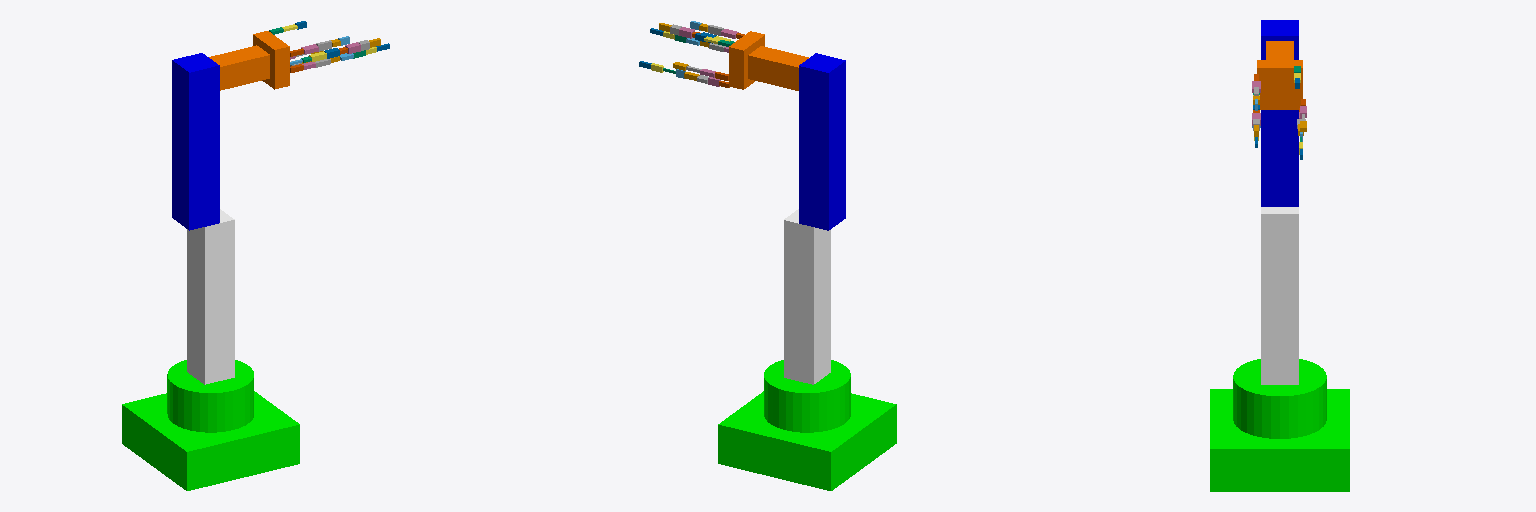
--- Render facts (derived) ---
The picture shows the robot from 3 angles, left to right: view 1: azimuth 30°, elevation 25°; view 2: azimuth 150°, elevation 25°; view 3: azimuth 270°, elevation 25°; orthographic projection.
Model robot with 41 links and 40 joints (37 revolute, 1 continuous, 2 fixed), rooted at base_link, posed all joints at 0.
Visible links, largest first — view 1: base_link, arm_link, support_link, wrist_link, palm_link; view 2: base_link, arm_link, support_link, wrist_link, palm_link; view 3: base_link, support_link, arm_link, palm_link, wrist_link.
Boxes of the visible links, x1,y1,x2,y2 form: base_link: (122,360,299,490); arm_link: (172,53,219,230); support_link: (187,209,234,384); wrist_link: (209,45,269,90); palm_link: (253,31,289,89); base_link: (718,360,896,490); arm_link: (799,53,845,230); support_link: (784,209,830,384); wrist_link: (748,46,808,90); palm_link: (729,31,764,89); base_link: (1210,359,1349,491); support_link: (1261,207,1298,384); arm_link: (1261,20,1298,206); palm_link: (1257,60,1302,109); wrist_link: (1266,41,1293,59).
Bounding box of the posed robot: 1.49 × 0.75 × 2.54 m (x, y, z).
Geometry: primitives only (box / cylinder / sphere), no mesh files.

robot.urdf — robot:
<?xml version='1.0' encoding='utf-8'?>
<robot name="robot">
  <link name="base_link">
    <visual>
      <origin xyz="0 0 0.125" rpy="0 0 0" />
      <geometry>
        <box size="0.75 0.75 0.25" />
      </geometry>
      <material name="green" />
    </visual>
    <visual>
      <origin xyz="0 0 0.375" rpy="0 0 0" />
      <geometry>
        <cylinder length="0.25" radius="0.25" />
      </geometry>
      <material name="green">
        <color rgba="0 1 0 1" />
      </material>
    </visual>
    <collision>
      <geometry>
        <box size="0.75 0.75 0.5" />
      </geometry>
    </collision>
    <inertial>
      <mass value="0.5" />
      <inertia ixx="0.034" ixy="0.0" ixz="0.0" iyy="0.034" iyz="0.0" izz="0.034" />
    </inertial>
  </link>
  <link name="support_link">
    <visual>
      <origin xyz="0 0 0.5" rpy="0 0 0" />
      <geometry>
        <box size="0.2 0.2 1" />
      </geometry>
      <material name="white">
        <color rgba="1 1 1 1" />
      </material>
    </visual>
    <collision>
      <geometry>
        <box size="0.2 0.2 1" />
      </geometry>
    </collision>
    <inertial>
      <mass value="0.1" />
      <inertia ixx="0.01" ixy="0.0" ixz="0.0" iyy="0.01" iyz="0.0" izz="0.01" />
    </inertial>
  </link>
  <joint name="support_joint" type="continuous">
    <origin xyz="0 0 0.5" rpy="0 0 0" />
    <parent link="base_link" />
    <child link="support_link" />
    <axis xyz="0 0 1" />
  </joint>
  <link name="arm_link">
    <visual>
      <origin xyz="0 0 0.5" rpy="0 0 0" />
      <geometry>
        <box size="0.2 0.2 1" />
      </geometry>
      <material name="blue">
        <color rgba="0 0 1 1" />
      </material>
    </visual>
    <collision>
      <geometry>
        <box size="0.2 0.2 1" />
      </geometry>
    </collision>
    <inertial>
      <mass value="0.1" />
      <inertia ixx="0.01" ixy="0.0" ixz="0.0" iyy="0.01" iyz="0.0" izz="0.01" />
    </inertial>
  </link>
  <joint name="arm_joint" type="revolute">
    <origin xyz="-0.1 0 1" rpy="0 0 0" />
    <parent link="support_link" />
    <child link="arm_link" />
    <axis xyz="0 1 0" />
    <limit lower="-3.14" upper="3.14" effort="1.0" velocity="1.0" />
  </joint>
  <link name="wrist_link">
    <visual>
      <origin xyz="0 0 0.25" rpy="0 0 0" />
      <geometry>
        <box size="0.15 0.15 0.5" />
      </geometry>
      <material name="orange">
        <color rgba="1 0.5 0 1" />
      </material>
    </visual>
    <collision>
      <geometry>
        <box size="0.15 0.15 0.5" />
      </geometry>
    </collision>
    <inertial>
      <mass value="0.1" />
      <inertia ixx="0.01" ixy="0.0" ixz="0.0" iyy="0.01" iyz="0.0" izz="0.01" />
    </inertial>
  </link>
  <joint name="wrist_joint" type="fixed">
    <origin xyz="0 0 0.9" rpy="0 1.571 0" />
    <parent link="arm_link" />
    <child link="wrist_link" />
  </joint>
  <link name="palm_link">
    <visual>
      <origin xyz="0 0 0.05" rpy="0 0 0" />
      <geometry>
        <box size="0.25 0.25 0.1" />
      </geometry>
      <material name="orange" />
    </visual>
    <collision>
      <geometry>
        <box size="0.25 0.25 0.1" />
      </geometry>
    </collision>
    <inertial>
      <mass value="0.1" />
      <inertia ixx="0.01" ixy="0.0" ixz="0.0" iyy="0.01" iyz="0.0" izz="0.01" />
    </inertial>
  </link>
  <joint name="palm_joint" type="fixed">
    <origin xyz="0 0 0.45" rpy="0 0 0" />
    <parent link="wrist_link" />
    <child link="palm_link" />
  </joint>
  <link name="finger_link_0_0">
    <visual>
      <origin xyz="0 0 0.0325" rpy="0 0 0" />
      <geometry>
        <box size="0.027 0.02 0.065" />
      </geometry>
    </visual>
    <collision>
      <geometry>
        <box size="0.027 0.02 0.065" />
      </geometry>
    </collision>
    <inertial>
      <mass value="0.011" />
      <inertia ixx="0.001" iyy="0.001" izz="0.001" ixy="0" ixz="0" iyz="0" />
    </inertial>
  </link>
  <joint name="finger_joint_palm_link_to_finger_link_0_0" type="revolute">
    <origin xyz="0.125 0.113 0.1" rpy="0 0 0" />
    <parent link="palm_link" />
    <child link="finger_link_0_0" />
    <axis xyz="0.0 1.0 0.0" />
    <limit lower="-3.142" upper="3.142" effort="10" velocity="10" />
  </joint>
  <link name="finger_link_0_1">
    <visual>
      <origin xyz="0 0 0.0355" rpy="0 0 0" />
      <geometry>
        <box size="0.042 0.021 0.071" />
      </geometry>
    </visual>
    <collision>
      <geometry>
        <box size="0.042 0.021 0.071" />
      </geometry>
    </collision>
    <inertial>
      <mass value="0.019" />
      <inertia ixx="0.001" iyy="0.001" izz="0.001" ixy="0" ixz="0" iyz="0" />
    </inertial>
  </link>
  <joint name="finger_joint_finger_link_0_0_to_finger_link_0_1" type="revolute">
    <origin xyz="0.0 0.0 0.065" rpy="0 0 0" />
    <parent link="finger_link_0_0" />
    <child link="finger_link_0_1" />
    <axis xyz="0.0 1.0 0.0" />
    <limit lower="-3.142" upper="3.142" effort="10" velocity="10" />
  </joint>
  <link name="finger_link_0_2">
    <visual>
      <origin xyz="0 0 0.035" rpy="0 0 0" />
      <geometry>
        <box size="0.023 0.049 0.07" />
      </geometry>
    </visual>
    <collision>
      <geometry>
        <box size="0.023 0.049 0.07" />
      </geometry>
    </collision>
    <inertial>
      <mass value="0.024" />
      <inertia ixx="0.001" iyy="0.001" izz="0.001" ixy="0" ixz="0" iyz="0" />
    </inertial>
  </link>
  <joint name="finger_joint_finger_link_0_1_to_finger_link_0_2" type="revolute">
    <origin xyz="0.0 0.0 0.071" rpy="0 0 0" />
    <parent link="finger_link_0_1" />
    <child link="finger_link_0_2" />
    <axis xyz="0.0 1.0 0.0" />
    <limit lower="-3.142" upper="3.142" effort="10" velocity="10" />
  </joint>
  <link name="finger_link_0_3">
    <visual>
      <origin xyz="0 0 0.0435" rpy="0 0 0" />
      <geometry>
        <box size="0.031 0.03 0.087" />
      </geometry>
    </visual>
    <collision>
      <geometry>
        <box size="0.031 0.03 0.087" />
      </geometry>
    </collision>
    <inertial>
      <mass value="0.024" />
      <inertia ixx="0.001" iyy="0.001" izz="0.001" ixy="0" ixz="0" iyz="0" />
    </inertial>
  </link>
  <joint name="finger_joint_finger_link_0_2_to_finger_link_0_3" type="revolute">
    <origin xyz="0.0 0.0 0.07" rpy="0 0 0" />
    <parent link="finger_link_0_2" />
    <child link="finger_link_0_3" />
    <axis xyz="0.0 1.0 0.0" />
    <limit lower="-3.142" upper="3.142" effort="10" velocity="10" />
  </joint>
  <link name="finger_link_0_4">
    <visual>
      <origin xyz="0 0 0.0295" rpy="0 0 0" />
      <geometry>
        <box size="0.048 0.014 0.059" />
      </geometry>
    </visual>
    <collision>
      <geometry>
        <box size="0.048 0.014 0.059" />
      </geometry>
    </collision>
    <inertial>
      <mass value="0.012" />
      <inertia ixx="0.001" iyy="0.001" izz="0.001" ixy="0" ixz="0" iyz="0" />
    </inertial>
  </link>
  <joint name="finger_joint_finger_link_0_3_to_finger_link_0_4" type="revolute">
    <origin xyz="0.0 0.0 0.087" rpy="0 0 0" />
    <parent link="finger_link_0_3" />
    <child link="finger_link_0_4" />
    <axis xyz="0.0 1.0 0.0" />
    <limit lower="-3.142" upper="3.142" effort="10" velocity="10" />
  </joint>
  <link name="finger_link_0_5">
    <visual>
      <origin xyz="0 0 0.044" rpy="0 0 0" />
      <geometry>
        <box size="0.015 0.01 0.088" />
      </geometry>
    </visual>
    <collision>
      <geometry>
        <box size="0.015 0.01 0.088" />
      </geometry>
    </collision>
    <inertial>
      <mass value="0.004" />
      <inertia ixx="0.001" iyy="0.001" izz="0.001" ixy="0" ixz="0" iyz="0" />
    </inertial>
  </link>
  <joint name="finger_joint_finger_link_0_4_to_finger_link_0_5" type="revolute">
    <origin xyz="0.0 0.0 0.059" rpy="0 0 0" />
    <parent link="finger_link_0_4" />
    <child link="finger_link_0_5" />
    <axis xyz="0.0 1.0 0.0" />
    <limit lower="-3.142" upper="3.142" effort="10" velocity="10" />
  </joint>
  <link name="finger_link_0_6">
    <visual>
      <origin xyz="0 0 0.039" rpy="0 0 0" />
      <geometry>
        <box size="0.036 0.023 0.078" />
      </geometry>
    </visual>
    <collision>
      <geometry>
        <box size="0.036 0.023 0.078" />
      </geometry>
    </collision>
    <inertial>
      <mass value="0.019" />
      <inertia ixx="0.001" iyy="0.001" izz="0.001" ixy="0" ixz="0" iyz="0" />
    </inertial>
  </link>
  <joint name="finger_joint_finger_link_0_5_to_finger_link_0_6" type="revolute">
    <origin xyz="0.0 0.0 0.088" rpy="0 0 0" />
    <parent link="finger_link_0_5" />
    <child link="finger_link_0_6" />
    <axis xyz="0.0 1.0 0.0" />
    <limit lower="-3.142" upper="3.142" effort="10" velocity="10" />
  </joint>
  <link name="finger_link_0_7">
    <visual>
      <origin xyz="0 0 0.038" rpy="0 0 0" />
      <geometry>
        <box size="0.031 0.016 0.076" />
      </geometry>
    </visual>
    <collision>
      <geometry>
        <box size="0.031 0.016 0.076" />
      </geometry>
    </collision>
    <inertial>
      <mass value="0.011" />
      <inertia ixx="0.001" iyy="0.001" izz="0.001" ixy="0" ixz="0" iyz="0" />
    </inertial>
  </link>
  <joint name="finger_joint_finger_link_0_6_to_finger_link_0_7" type="revolute">
    <origin xyz="0.0 0.0 0.078" rpy="0 0 0" />
    <parent link="finger_link_0_6" />
    <child link="finger_link_0_7" />
    <axis xyz="0.0 1.0 0.0" />
    <limit lower="-3.142" upper="3.142" effort="10" velocity="10" />
  </joint>
  <link name="finger_link_1_0">
    <visual>
      <origin xyz="0 0 0.045" rpy="0 0 0" />
      <geometry>
        <box size="0.026 0.022 0.09" />
      </geometry>
    </visual>
    <collision>
      <geometry>
        <box size="0.026 0.022 0.09" />
      </geometry>
    </collision>
    <inertial>
      <mass value="0.015" />
      <inertia ixx="0.001" iyy="0.001" izz="0.001" ixy="0" ixz="0" iyz="0" />
    </inertial>
  </link>
  <joint name="finger_joint_palm_link_to_finger_link_1_0" type="revolute">
    <origin xyz="-0.075 -0.125 0.1" rpy="0 0 0" />
    <parent link="palm_link" />
    <child link="finger_link_1_0" />
    <axis xyz="1.0 0.0 0.0" />
    <limit lower="-3.142" upper="3.142" effort="10" velocity="10" />
  </joint>
  <link name="finger_link_1_1">
    <visual>
      <origin xyz="0 0 0.046" rpy="0 0 0" />
      <geometry>
        <box size="0.026 0.049 0.092" />
      </geometry>
    </visual>
    <collision>
      <geometry>
        <box size="0.026 0.049 0.092" />
      </geometry>
    </collision>
    <inertial>
      <mass value="0.035" />
      <inertia ixx="0.001" iyy="0.001" izz="0.001" ixy="0" ixz="0" iyz="0" />
    </inertial>
  </link>
  <joint name="finger_joint_finger_link_1_0_to_finger_link_1_1" type="revolute">
    <origin xyz="0.0 0.0 0.09" rpy="0 0 0" />
    <parent link="finger_link_1_0" />
    <child link="finger_link_1_1" />
    <axis xyz="1.0 0.0 0.0" />
    <limit lower="-3.142" upper="3.142" effort="10" velocity="10" />
  </joint>
  <link name="finger_link_1_2">
    <visual>
      <origin xyz="0 0 0.047" rpy="0 0 0" />
      <geometry>
        <box size="0.044 0.022 0.094" />
      </geometry>
    </visual>
    <collision>
      <geometry>
        <box size="0.044 0.022 0.094" />
      </geometry>
    </collision>
    <inertial>
      <mass value="0.027" />
      <inertia ixx="0.001" iyy="0.001" izz="0.001" ixy="0" ixz="0" iyz="0" />
    </inertial>
  </link>
  <joint name="finger_joint_finger_link_1_1_to_finger_link_1_2" type="revolute">
    <origin xyz="0.0 0.0 0.092" rpy="0 0 0" />
    <parent link="finger_link_1_1" />
    <child link="finger_link_1_2" />
    <axis xyz="1.0 0.0 0.0" />
    <limit lower="-3.142" upper="3.142" effort="10" velocity="10" />
  </joint>
  <link name="finger_link_1_3">
    <visual>
      <origin xyz="0 0 0.026" rpy="0 0 0" />
      <geometry>
        <box size="0.029 0.034 0.052" />
      </geometry>
    </visual>
    <collision>
      <geometry>
        <box size="0.029 0.034 0.052" />
      </geometry>
    </collision>
    <inertial>
      <mass value="0.015" />
      <inertia ixx="0.001" iyy="0.001" izz="0.001" ixy="0" ixz="0" iyz="0" />
    </inertial>
  </link>
  <joint name="finger_joint_finger_link_1_2_to_finger_link_1_3" type="revolute">
    <origin xyz="0.0 0.0 0.094" rpy="0 0 0" />
    <parent link="finger_link_1_2" />
    <child link="finger_link_1_3" />
    <axis xyz="1.0 0.0 0.0" />
    <limit lower="-3.142" upper="3.142" effort="10" velocity="10" />
  </joint>
  <link name="finger_link_1_4">
    <visual>
      <origin xyz="0 0 0.0325" rpy="0 0 0" />
      <geometry>
        <box size="0.043 0.018 0.065" />
      </geometry>
    </visual>
    <collision>
      <geometry>
        <box size="0.043 0.018 0.065" />
      </geometry>
    </collision>
    <inertial>
      <mass value="0.015" />
      <inertia ixx="0.001" iyy="0.001" izz="0.001" ixy="0" ixz="0" iyz="0" />
    </inertial>
  </link>
  <joint name="finger_joint_finger_link_1_3_to_finger_link_1_4" type="revolute">
    <origin xyz="0.0 0.0 0.052" rpy="0 0 0" />
    <parent link="finger_link_1_3" />
    <child link="finger_link_1_4" />
    <axis xyz="1.0 0.0 0.0" />
    <limit lower="-3.142" upper="3.142" effort="10" velocity="10" />
  </joint>
  <link name="finger_link_2_0">
    <visual>
      <origin xyz="0 0 0.0395" rpy="0 0 0" />
      <geometry>
        <box size="0.019 0.033 0.079" />
      </geometry>
    </visual>
    <collision>
      <geometry>
        <box size="0.019 0.033 0.079" />
      </geometry>
    </collision>
    <inertial>
      <mass value="0.015" />
      <inertia ixx="0.001" iyy="0.001" izz="0.001" ixy="0" ixz="0" iyz="0" />
    </inertial>
  </link>
  <joint name="finger_joint_palm_link_to_finger_link_2_0" type="revolute">
    <origin xyz="-0.125 0.093 0.1" rpy="0 0 0" />
    <parent link="palm_link" />
    <child link="finger_link_2_0" />
    <axis xyz="0.0 -1.0 0.0" />
    <limit lower="-3.142" upper="3.142" effort="10" velocity="10" />
  </joint>
  <link name="finger_link_2_1">
    <visual>
      <origin xyz="0 0 0.0455" rpy="0 0 0" />
      <geometry>
        <box size="0.015 0.036 0.091" />
      </geometry>
    </visual>
    <collision>
      <geometry>
        <box size="0.015 0.036 0.091" />
      </geometry>
    </collision>
    <inertial>
      <mass value="0.015" />
      <inertia ixx="0.001" iyy="0.001" izz="0.001" ixy="0" ixz="0" iyz="0" />
    </inertial>
  </link>
  <joint name="finger_joint_finger_link_2_0_to_finger_link_2_1" type="revolute">
    <origin xyz="0.0 0.0 0.079" rpy="0 0 0" />
    <parent link="finger_link_2_0" />
    <child link="finger_link_2_1" />
    <axis xyz="0.0 -1.0 0.0" />
    <limit lower="-3.142" upper="3.142" effort="10" velocity="10" />
  </joint>
  <link name="finger_link_2_2">
    <visual>
      <origin xyz="0 0 0.0315" rpy="0 0 0" />
      <geometry>
        <box size="0.036 0.022 0.063" />
      </geometry>
    </visual>
    <collision>
      <geometry>
        <box size="0.036 0.022 0.063" />
      </geometry>
    </collision>
    <inertial>
      <mass value="0.015" />
      <inertia ixx="0.001" iyy="0.001" izz="0.001" ixy="0" ixz="0" iyz="0" />
    </inertial>
  </link>
  <joint name="finger_joint_finger_link_2_1_to_finger_link_2_2" type="revolute">
    <origin xyz="0.0 0.0 0.091" rpy="0 0 0" />
    <parent link="finger_link_2_1" />
    <child link="finger_link_2_2" />
    <axis xyz="0.0 -1.0 0.0" />
    <limit lower="-3.142" upper="3.142" effort="10" velocity="10" />
  </joint>
  <link name="finger_link_3_0">
    <visual>
      <origin xyz="0 0 0.043" rpy="0 0 0" />
      <geometry>
        <box size="0.031 0.024 0.086" />
      </geometry>
    </visual>
    <collision>
      <geometry>
        <box size="0.031 0.024 0.086" />
      </geometry>
    </collision>
    <inertial>
      <mass value="0.019" />
      <inertia ixx="0.001" iyy="0.001" izz="0.001" ixy="0" ixz="0" iyz="0" />
    </inertial>
  </link>
  <joint name="finger_joint_palm_link_to_finger_link_3_0" type="revolute">
    <origin xyz="0.026 -0.125 0.1" rpy="0 0 0" />
    <parent link="palm_link" />
    <child link="finger_link_3_0" />
    <axis xyz="1.0 0.0 0.0" />
    <limit lower="-3.142" upper="3.142" effort="10" velocity="10" />
  </joint>
  <link name="finger_link_3_1">
    <visual>
      <origin xyz="0 0 0.0395" rpy="0 0 0" />
      <geometry>
        <box size="0.024 0.037 0.079" />
      </geometry>
    </visual>
    <collision>
      <geometry>
        <box size="0.024 0.037 0.079" />
      </geometry>
    </collision>
    <inertial>
      <mass value="0.021" />
      <inertia ixx="0.001" iyy="0.001" izz="0.001" ixy="0" ixz="0" iyz="0" />
    </inertial>
  </link>
  <joint name="finger_joint_finger_link_3_0_to_finger_link_3_1" type="revolute">
    <origin xyz="0.0 0.0 0.086" rpy="0 0 0" />
    <parent link="finger_link_3_0" />
    <child link="finger_link_3_1" />
    <axis xyz="1.0 0.0 0.0" />
    <limit lower="-3.142" upper="3.142" effort="10" velocity="10" />
  </joint>
  <link name="finger_link_3_2">
    <visual>
      <origin xyz="0 0 0.0495" rpy="0 0 0" />
      <geometry>
        <box size="0.029 0.04 0.099" />
      </geometry>
    </visual>
    <collision>
      <geometry>
        <box size="0.029 0.04 0.099" />
      </geometry>
    </collision>
    <inertial>
      <mass value="0.034" />
      <inertia ixx="0.001" iyy="0.001" izz="0.001" ixy="0" ixz="0" iyz="0" />
    </inertial>
  </link>
  <joint name="finger_joint_finger_link_3_1_to_finger_link_3_2" type="revolute">
    <origin xyz="0.0 0.0 0.079" rpy="0 0 0" />
    <parent link="finger_link_3_1" />
    <child link="finger_link_3_2" />
    <axis xyz="1.0 0.0 0.0" />
    <limit lower="-3.142" upper="3.142" effort="10" velocity="10" />
  </joint>
  <link name="finger_link_3_3">
    <visual>
      <origin xyz="0 0 0.034" rpy="0 0 0" />
      <geometry>
        <box size="0.031 0.013 0.068" />
      </geometry>
    </visual>
    <collision>
      <geometry>
        <box size="0.031 0.013 0.068" />
      </geometry>
    </collision>
    <inertial>
      <mass value="0.008" />
      <inertia ixx="0.001" iyy="0.001" izz="0.001" ixy="0" ixz="0" iyz="0" />
    </inertial>
  </link>
  <joint name="finger_joint_finger_link_3_2_to_finger_link_3_3" type="revolute">
    <origin xyz="0.0 0.0 0.099" rpy="0 0 0" />
    <parent link="finger_link_3_2" />
    <child link="finger_link_3_3" />
    <axis xyz="1.0 0.0 0.0" />
    <limit lower="-3.142" upper="3.142" effort="10" velocity="10" />
  </joint>
  <link name="finger_link_3_4">
    <visual>
      <origin xyz="0 0 0.0415" rpy="0 0 0" />
      <geometry>
        <box size="0.023 0.043 0.083" />
      </geometry>
    </visual>
    <collision>
      <geometry>
        <box size="0.023 0.043 0.083" />
      </geometry>
    </collision>
    <inertial>
      <mass value="0.025" />
      <inertia ixx="0.001" iyy="0.001" izz="0.001" ixy="0" ixz="0" iyz="0" />
    </inertial>
  </link>
  <joint name="finger_joint_finger_link_3_3_to_finger_link_3_4" type="revolute">
    <origin xyz="0.0 0.0 0.068" rpy="0 0 0" />
    <parent link="finger_link_3_3" />
    <child link="finger_link_3_4" />
    <axis xyz="1.0 0.0 0.0" />
    <limit lower="-3.142" upper="3.142" effort="10" velocity="10" />
  </joint>
  <link name="finger_link_3_5">
    <visual>
      <origin xyz="0 0 0.041" rpy="0 0 0" />
      <geometry>
        <box size="0.041 0.021 0.082" />
      </geometry>
    </visual>
    <collision>
      <geometry>
        <box size="0.041 0.021 0.082" />
      </geometry>
    </collision>
    <inertial>
      <mass value="0.021" />
      <inertia ixx="0.001" iyy="0.001" izz="0.001" ixy="0" ixz="0" iyz="0" />
    </inertial>
  </link>
  <joint name="finger_joint_finger_link_3_4_to_finger_link_3_5" type="revolute">
    <origin xyz="0.0 0.0 0.083" rpy="0 0 0" />
    <parent link="finger_link_3_4" />
    <child link="finger_link_3_5" />
    <axis xyz="1.0 0.0 0.0" />
    <limit lower="-3.142" upper="3.142" effort="10" velocity="10" />
  </joint>
  <link name="finger_link_3_6">
    <visual>
      <origin xyz="0 0 0.038" rpy="0 0 0" />
      <geometry>
        <box size="0.029 0.022 0.076" />
      </geometry>
    </visual>
    <collision>
      <geometry>
        <box size="0.029 0.022 0.076" />
      </geometry>
    </collision>
    <inertial>
      <mass value="0.015" />
      <inertia ixx="0.001" iyy="0.001" izz="0.001" ixy="0" ixz="0" iyz="0" />
    </inertial>
  </link>
  <joint name="finger_joint_finger_link_3_5_to_finger_link_3_6" type="revolute">
    <origin xyz="0.0 0.0 0.082" rpy="0 0 0" />
    <parent link="finger_link_3_5" />
    <child link="finger_link_3_6" />
    <axis xyz="1.0 0.0 0.0" />
    <limit lower="-3.142" upper="3.142" effort="10" velocity="10" />
  </joint>
  <link name="finger_link_3_7">
    <visual>
      <origin xyz="0 0 0.0445" rpy="0 0 0" />
      <geometry>
        <box size="0.026 0.017 0.089" />
      </geometry>
    </visual>
    <collision>
      <geometry>
        <box size="0.026 0.017 0.089" />
      </geometry>
    </collision>
    <inertial>
      <mass value="0.012" />
      <inertia ixx="0.001" iyy="0.001" izz="0.001" ixy="0" ixz="0" iyz="0" />
    </inertial>
  </link>
  <joint name="finger_joint_finger_link_3_6_to_finger_link_3_7" type="revolute">
    <origin xyz="0.0 0.0 0.076" rpy="0 0 0" />
    <parent link="finger_link_3_6" />
    <child link="finger_link_3_7" />
    <axis xyz="1.0 0.0 0.0" />
    <limit lower="-3.142" upper="3.142" effort="10" velocity="10" />
  </joint>
  <link name="finger_link_4_0">
    <visual>
      <origin xyz="0 0 0.043" rpy="0 0 0" />
      <geometry>
        <box size="0.033 0.024 0.086" />
      </geometry>
    </visual>
    <collision>
      <geometry>
        <box size="0.033 0.024 0.086" />
      </geometry>
    </collision>
    <inertial>
      <mass value="0.02" />
      <inertia ixx="0.001" iyy="0.001" izz="0.001" ixy="0" ixz="0" iyz="0" />
    </inertial>
  </link>
  <joint name="finger_joint_palm_link_to_finger_link_4_0" type="revolute">
    <origin xyz="0.072 0.125 0.1" rpy="0 0 0" />
    <parent link="palm_link" />
    <child link="finger_link_4_0" />
    <axis xyz="-1.0 0.0 0.0" />
    <limit lower="-3.142" upper="3.142" effort="10" velocity="10" />
  </joint>
  <link name="finger_link_4_1">
    <visual>
      <origin xyz="0 0 0.046" rpy="0 0 0" />
      <geometry>
        <box size="0.025 0.033 0.092" />
      </geometry>
    </visual>
    <collision>
      <geometry>
        <box size="0.025 0.033 0.092" />
      </geometry>
    </collision>
    <inertial>
      <mass value="0.023" />
      <inertia ixx="0.001" iyy="0.001" izz="0.001" ixy="0" ixz="0" iyz="0" />
    </inertial>
  </link>
  <joint name="finger_joint_finger_link_4_0_to_finger_link_4_1" type="revolute">
    <origin xyz="0.0 0.0 0.086" rpy="0 0 0" />
    <parent link="finger_link_4_0" />
    <child link="finger_link_4_1" />
    <axis xyz="-1.0 0.0 0.0" />
    <limit lower="-3.142" upper="3.142" effort="10" velocity="10" />
  </joint>
  <link name="finger_link_4_2">
    <visual>
      <origin xyz="0 0 0.0495" rpy="0 0 0" />
      <geometry>
        <box size="0.019 0.019 0.099" />
      </geometry>
    </visual>
    <collision>
      <geometry>
        <box size="0.019 0.019 0.099" />
      </geometry>
    </collision>
    <inertial>
      <mass value="0.011" />
      <inertia ixx="0.001" iyy="0.001" izz="0.001" ixy="0" ixz="0" iyz="0" />
    </inertial>
  </link>
  <joint name="finger_joint_finger_link_4_1_to_finger_link_4_2" type="revolute">
    <origin xyz="0.0 0.0 0.092" rpy="0 0 0" />
    <parent link="finger_link_4_1" />
    <child link="finger_link_4_2" />
    <axis xyz="-1.0 0.0 0.0" />
    <limit lower="-3.142" upper="3.142" effort="10" velocity="10" />
  </joint>
  <link name="finger_link_4_3">
    <visual>
      <origin xyz="0 0 0.042" rpy="0 0 0" />
      <geometry>
        <box size="0.025 0.038 0.084" />
      </geometry>
    </visual>
    <collision>
      <geometry>
        <box size="0.025 0.038 0.084" />
      </geometry>
    </collision>
    <inertial>
      <mass value="0.024" />
      <inertia ixx="0.001" iyy="0.001" izz="0.001" ixy="0" ixz="0" iyz="0" />
    </inertial>
  </link>
  <joint name="finger_joint_finger_link_4_2_to_finger_link_4_3" type="revolute">
    <origin xyz="0.0 0.0 0.099" rpy="0 0 0" />
    <parent link="finger_link_4_2" />
    <child link="finger_link_4_3" />
    <axis xyz="-1.0 0.0 0.0" />
    <limit lower="-3.142" upper="3.142" effort="10" velocity="10" />
  </joint>
  <link name="finger_link_5_0">
    <visual>
      <origin xyz="0 0 0.0425" rpy="0 0 0" />
      <geometry>
        <box size="0.013 0.017 0.085" />
      </geometry>
    </visual>
    <collision>
      <geometry>
        <box size="0.013 0.017 0.085" />
      </geometry>
    </collision>
    <inertial>
      <mass value="0.006" />
      <inertia ixx="0.001" iyy="0.001" izz="0.001" ixy="0" ixz="0" iyz="0" />
    </inertial>
  </link>
  <joint name="finger_joint_palm_link_to_finger_link_5_0" type="revolute">
    <origin xyz="-0.016 -0.125 0.1" rpy="0 0 0" />
    <parent link="palm_link" />
    <child link="finger_link_5_0" />
    <axis xyz="1.0 0.0 0.0" />
    <limit lower="-3.142" upper="3.142" effort="10" velocity="10" />
  </joint>
  <link name="finger_link_5_1">
    <visual>
      <origin xyz="0 0 0.026" rpy="0 0 0" />
      <geometry>
        <box size="0.016 0.034 0.052" />
      </geometry>
    </visual>
    <collision>
      <geometry>
        <box size="0.016 0.034 0.052" />
      </geometry>
    </collision>
    <inertial>
      <mass value="0.008" />
      <inertia ixx="0.001" iyy="0.001" izz="0.001" ixy="0" ixz="0" iyz="0" />
    </inertial>
  </link>
  <joint name="finger_joint_finger_link_5_0_to_finger_link_5_1" type="revolute">
    <origin xyz="0.0 0.0 0.085" rpy="0 0 0" />
    <parent link="finger_link_5_0" />
    <child link="finger_link_5_1" />
    <axis xyz="1.0 0.0 0.0" />
    <limit lower="-3.142" upper="3.142" effort="10" velocity="10" />
  </joint>
  <link name="finger_link_5_2">
    <visual>
      <origin xyz="0 0 0.0495" rpy="0 0 0" />
      <geometry>
        <box size="0.032 0.037 0.099" />
      </geometry>
    </visual>
    <collision>
      <geometry>
        <box size="0.032 0.037 0.099" />
      </geometry>
    </collision>
    <inertial>
      <mass value="0.035" />
      <inertia ixx="0.001" iyy="0.001" izz="0.001" ixy="0" ixz="0" iyz="0" />
    </inertial>
  </link>
  <joint name="finger_joint_finger_link_5_1_to_finger_link_5_2" type="revolute">
    <origin xyz="0.0 0.0 0.052" rpy="0 0 0" />
    <parent link="finger_link_5_1" />
    <child link="finger_link_5_2" />
    <axis xyz="1.0 0.0 0.0" />
    <limit lower="-3.142" upper="3.142" effort="10" velocity="10" />
  </joint>
  <link name="finger_link_5_3">
    <visual>
      <origin xyz="0 0 0.0435" rpy="0 0 0" />
      <geometry>
        <box size="0.038 0.039 0.087" />
      </geometry>
    </visual>
    <collision>
      <geometry>
        <box size="0.038 0.039 0.087" />
      </geometry>
    </collision>
    <inertial>
      <mass value="0.039" />
      <inertia ixx="0.001" iyy="0.001" izz="0.001" ixy="0" ixz="0" iyz="0" />
    </inertial>
  </link>
  <joint name="finger_joint_finger_link_5_2_to_finger_link_5_3" type="revolute">
    <origin xyz="0.0 0.0 0.099" rpy="0 0 0" />
    <parent link="finger_link_5_2" />
    <child link="finger_link_5_3" />
    <axis xyz="1.0 0.0 0.0" />
    <limit lower="-3.142" upper="3.142" effort="10" velocity="10" />
  </joint>
  <link name="finger_link_5_4">
    <visual>
      <origin xyz="0 0 0.0275" rpy="0 0 0" />
      <geometry>
        <box size="0.024 0.033 0.055" />
      </geometry>
    </visual>
    <collision>
      <geometry>
        <box size="0.024 0.033 0.055" />
      </geometry>
    </collision>
    <inertial>
      <mass value="0.013" />
      <inertia ixx="0.001" iyy="0.001" izz="0.001" ixy="0" ixz="0" iyz="0" />
    </inertial>
  </link>
  <joint name="finger_joint_finger_link_5_3_to_finger_link_5_4" type="revolute">
    <origin xyz="0.0 0.0 0.087" rpy="0 0 0" />
    <parent link="finger_link_5_3" />
    <child link="finger_link_5_4" />
    <axis xyz="1.0 0.0 0.0" />
    <limit lower="-3.142" upper="3.142" effort="10" velocity="10" />
  </joint>
  <link name="finger_link_5_5">
    <visual>
      <origin xyz="0 0 0.042" rpy="0 0 0" />
      <geometry>
        <box size="0.04 0.045 0.084" />
      </geometry>
    </visual>
    <collision>
      <geometry>
        <box size="0.04 0.045 0.084" />
      </geometry>
    </collision>
    <inertial>
      <mass value="0.045" />
      <inertia ixx="0.001" iyy="0.001" izz="0.001" ixy="0" ixz="0" iyz="0" />
    </inertial>
  </link>
  <joint name="finger_joint_finger_link_5_4_to_finger_link_5_5" type="revolute">
    <origin xyz="0.0 0.0 0.055" rpy="0 0 0" />
    <parent link="finger_link_5_4" />
    <child link="finger_link_5_5" />
    <axis xyz="1.0 0.0 0.0" />
    <limit lower="-3.142" upper="3.142" effort="10" velocity="10" />
  </joint>
  <link name="finger_link_5_6">
    <visual>
      <origin xyz="0 0 0.03" rpy="0 0 0" />
      <geometry>
        <box size="0.042 0.04 0.06" />
      </geometry>
    </visual>
    <collision>
      <geometry>
        <box size="0.042 0.04 0.06" />
      </geometry>
    </collision>
    <inertial>
      <mass value="0.03" />
      <inertia ixx="0.001" iyy="0.001" izz="0.001" ixy="0" ixz="0" iyz="0" />
    </inertial>
  </link>
  <joint name="finger_joint_finger_link_5_5_to_finger_link_5_6" type="revolute">
    <origin xyz="0.0 0.0 0.084" rpy="0 0 0" />
    <parent link="finger_link_5_5" />
    <child link="finger_link_5_6" />
    <axis xyz="1.0 0.0 0.0" />
    <limit lower="-3.142" upper="3.142" effort="10" velocity="10" />
  </joint>
  <link name="finger_link_5_7">
    <visual>
      <origin xyz="0 0 0.0395" rpy="0 0 0" />
      <geometry>
        <box size="0.037 0.024 0.079" />
      </geometry>
    </visual>
    <collision>
      <geometry>
        <box size="0.037 0.024 0.079" />
      </geometry>
    </collision>
    <inertial>
      <mass value="0.021" />
      <inertia ixx="0.001" iyy="0.001" izz="0.001" ixy="0" ixz="0" iyz="0" />
    </inertial>
  </link>
  <joint name="finger_joint_finger_link_5_6_to_finger_link_5_7" type="revolute">
    <origin xyz="0.0 0.0 0.06" rpy="0 0 0" />
    <parent link="finger_link_5_6" />
    <child link="finger_link_5_7" />
    <axis xyz="1.0 0.0 0.0" />
    <limit lower="-3.142" upper="3.142" effort="10" velocity="10" />
  </joint>
</robot>
